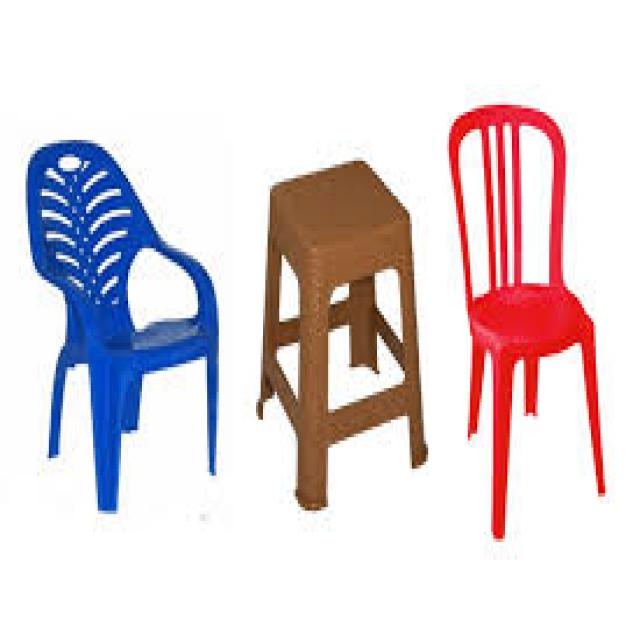chair: (16, 90, 252, 547), (260, 119, 447, 534), (445, 88, 602, 547)
